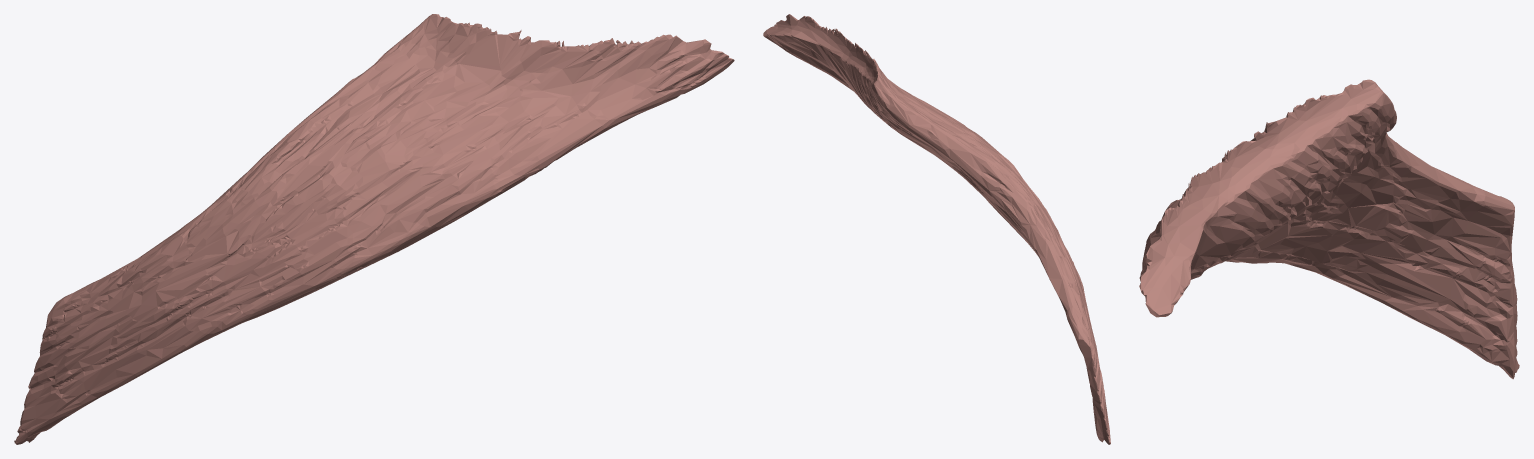
File: FMA34691.glb
The picture shows the model from 3 angles, left to right: view 1: azimuth 30°, elevation 25°; view 2: azimuth 150°, elevation 25°; view 3: azimuth 270°, elevation 25°; orthographic projection. The views are drawn at different scales.
Visible parts, largest first — view 1: B.FMA34691; view 2: B.FMA34691; view 3: B.FMA34691.
Boxes of the visible parts, <box> form: B.FMA34691: <box>14,14,734,444</box>; B.FMA34691: <box>763,14,1110,444</box>; B.FMA34691: <box>1139,79,1519,379</box>.
Size of the model in its own units: 0.1681 by 0.102 by 0.0634.
